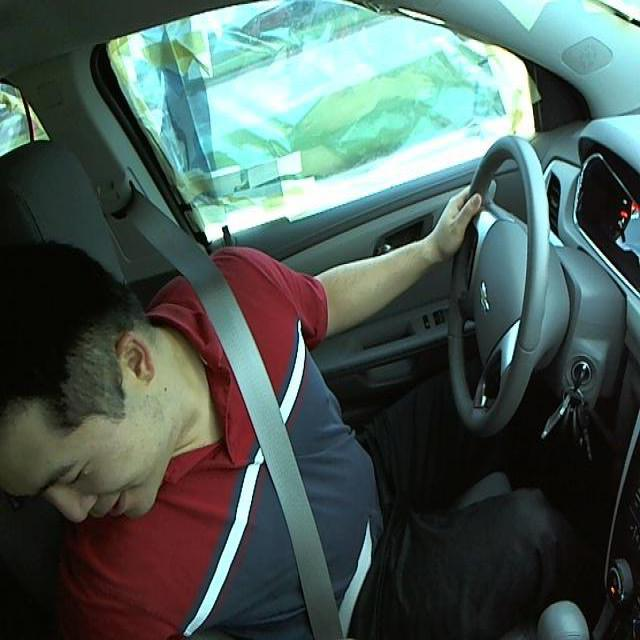seatbelt: (206, 294, 354, 638)
